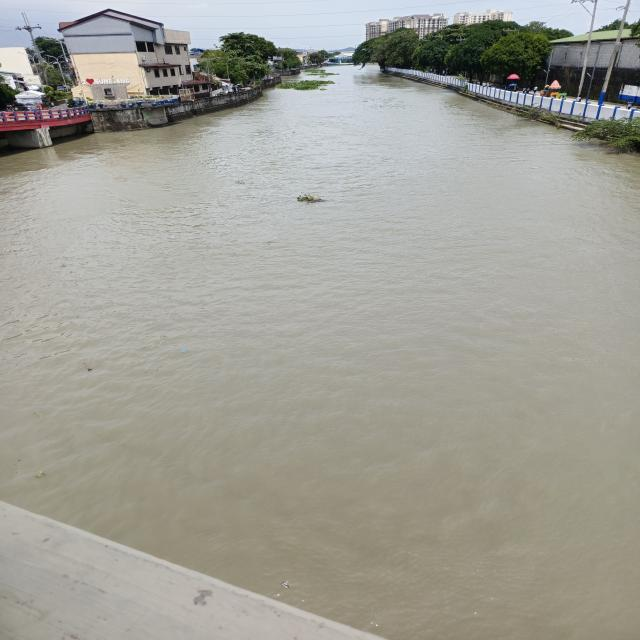Organic Debris: (275, 79, 337, 90), (295, 190, 330, 204), (32, 411, 44, 425), (34, 470, 48, 479), (233, 178, 246, 186), (64, 433, 74, 443), (304, 73, 340, 75), (302, 69, 326, 72), (166, 265, 176, 270), (148, 386, 156, 391), (319, 87, 328, 91), (319, 75, 330, 78), (266, 240, 272, 244), (144, 366, 148, 372), (361, 100, 368, 103), (267, 229, 272, 232), (291, 131, 296, 134), (144, 243, 148, 245), (132, 381, 134, 383), (174, 392, 176, 394), (325, 75, 329, 76), (338, 83, 341, 84), (339, 84, 340, 86), (311, 72, 327, 72)
Plastic: (83, 361, 92, 373), (155, 364, 162, 373), (180, 348, 187, 354), (233, 251, 238, 257), (17, 459, 21, 462), (170, 236, 175, 238), (15, 471, 18, 474), (273, 237, 277, 239), (14, 462, 16, 466), (282, 156, 286, 158), (18, 466, 20, 468)
